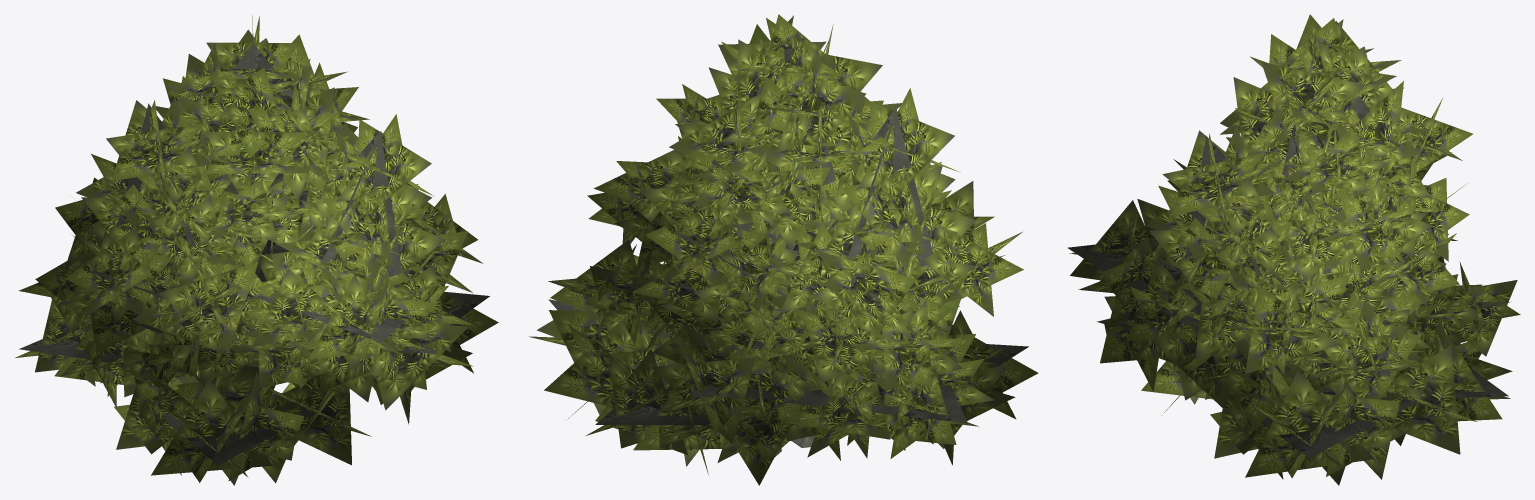
Rendered from BushBig03.FBX.
The picture shows the model from 3 angles, left to right: view 1: azimuth 30°, elevation 25°; view 2: azimuth 150°, elevation 25°; view 3: azimuth 270°, elevation 25°; orthographic projection. The views are drawn at different scales.
Visible parts, largest first — view 1: Bush_LOD0; view 2: Bush_LOD0; view 3: Bush_LOD0.
Part boxes in pixels (box(x1,y1,x2,y2)): Bush_LOD0: box(15, 15, 498, 485); Bush_LOD0: box(529, 14, 1038, 485); Bush_LOD0: box(1067, 14, 1520, 485).
Size of what is drawn, in the model's own units: 635 by 576 by 573.
